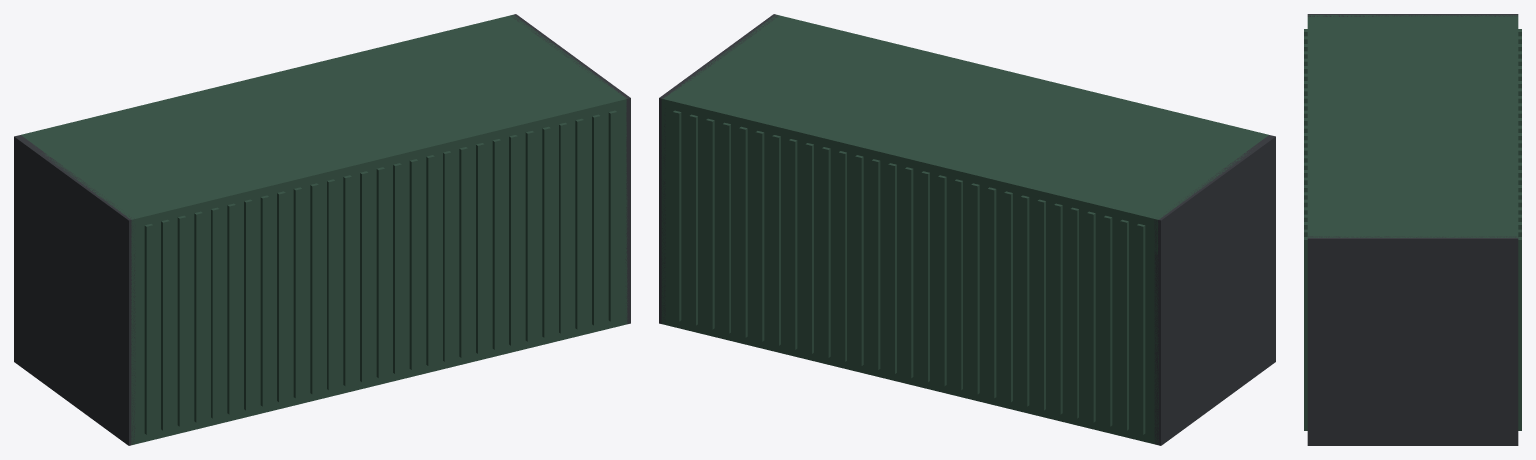
File: container.glb
3 renders of one model, left to right at view 1: azimuth 30°, elevation 25°; view 2: azimuth 150°, elevation 25°; view 3: azimuth 270°, elevation 25°, orthographic. The views are drawn at different scales.
Visible parts, largest first — view 1: container; view 2: container; view 3: container.
Part boxes in pixels (box(x1,y1,x2,y2)): container: box(14, 14, 630, 445); container: box(659, 14, 1275, 445); container: box(1304, 14, 1521, 445).
Size of the model in its own units: 6.06 by 2.6 by 2.48.
